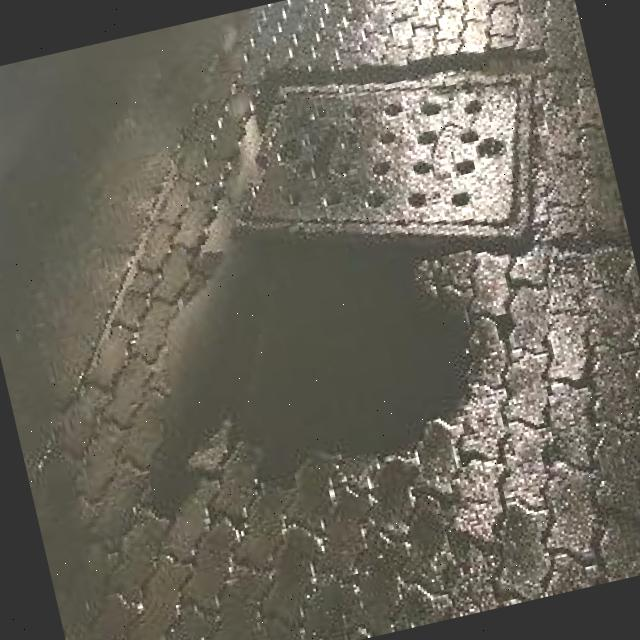stagnation: (96, 180, 523, 511)
